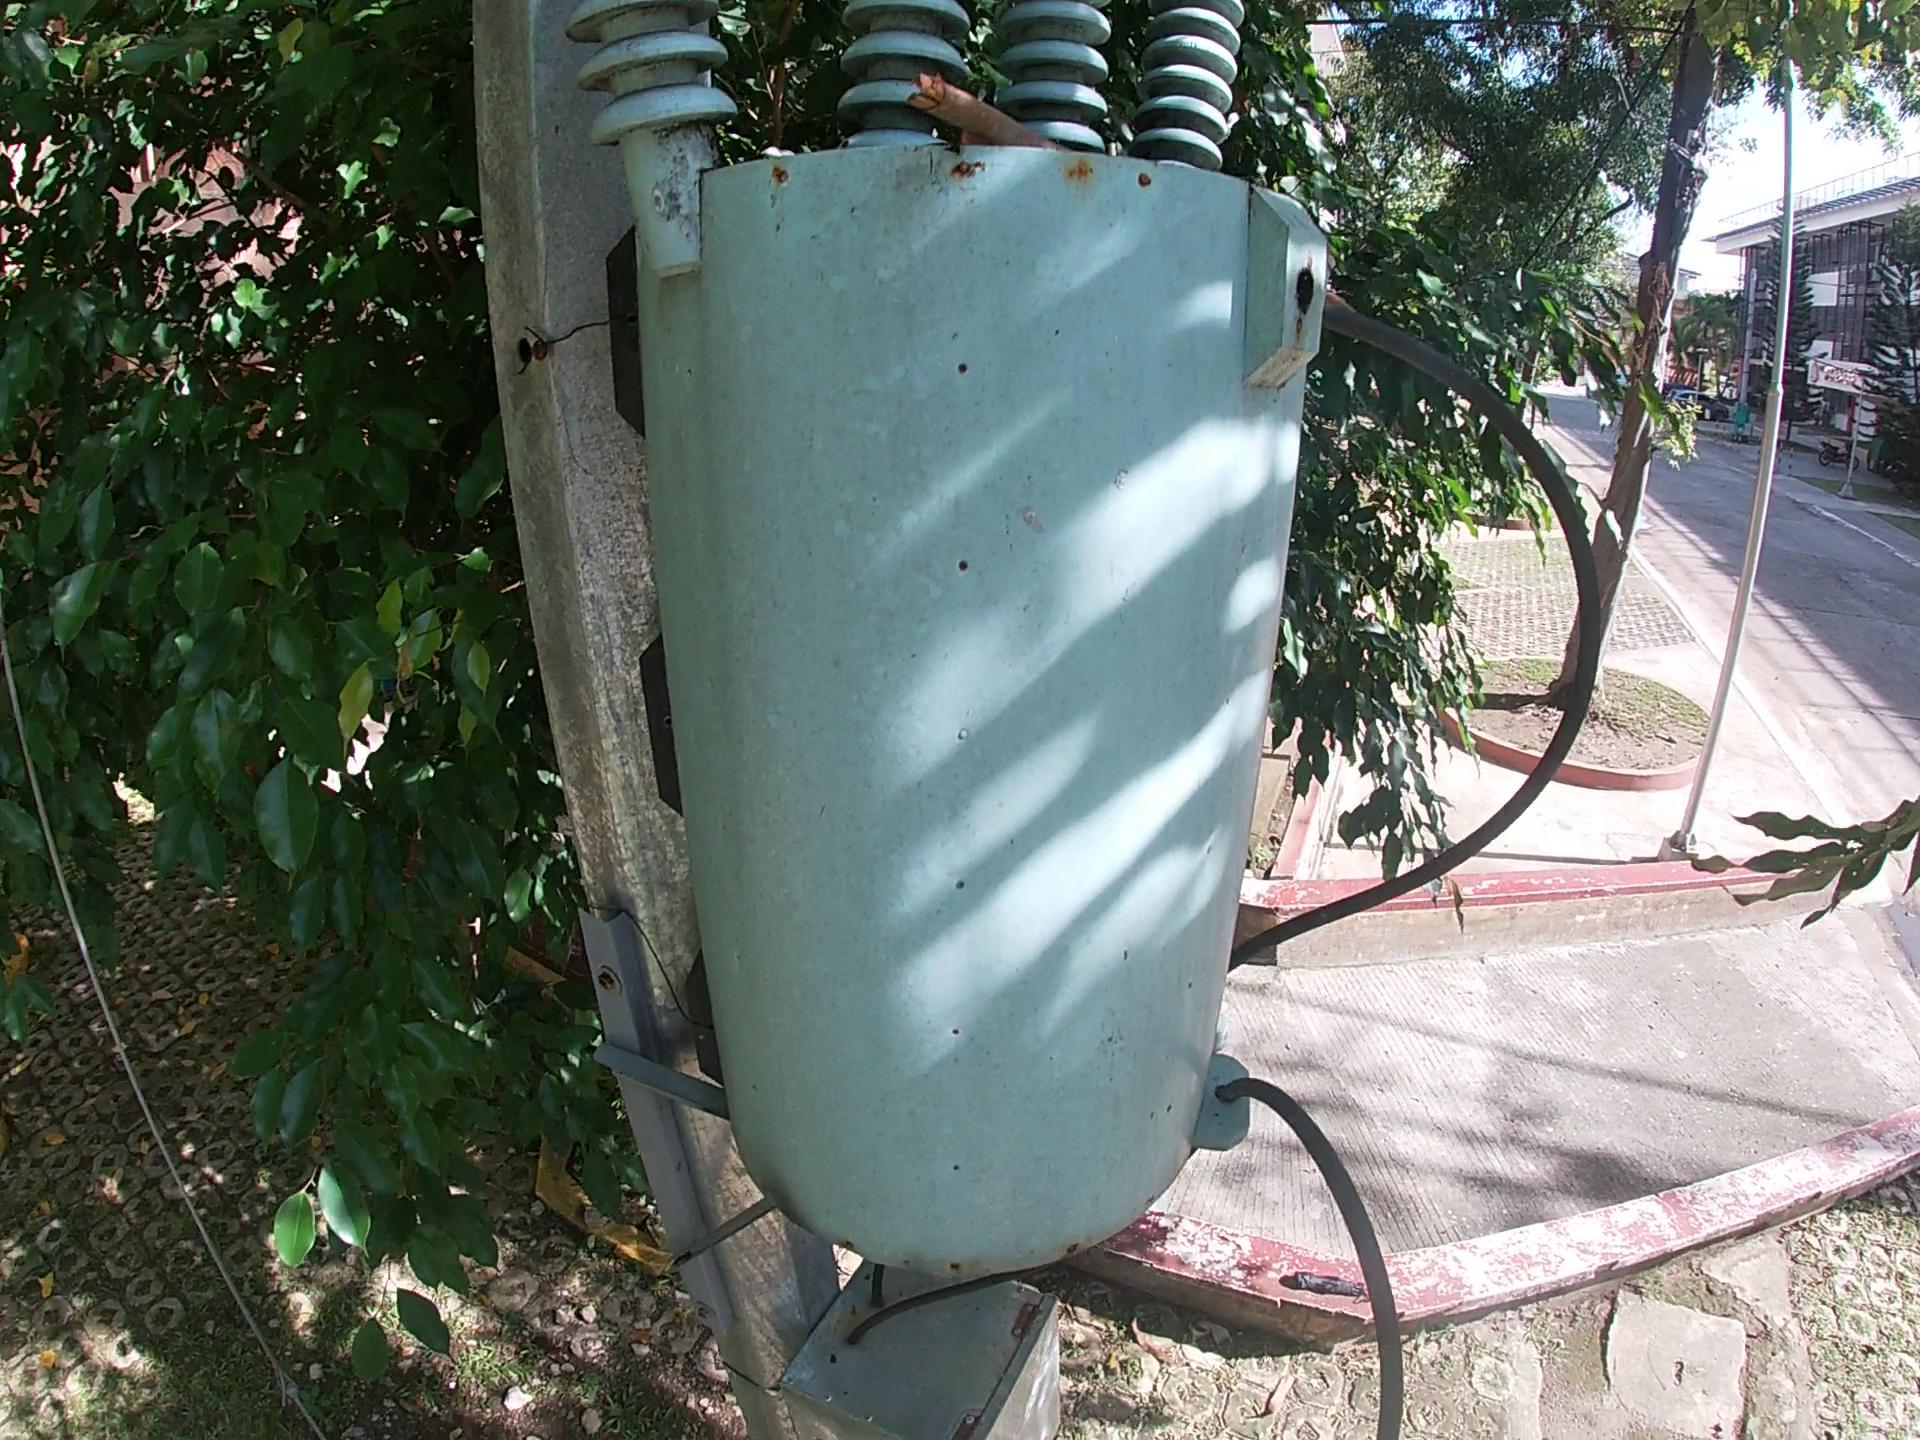tree branch: (906, 71, 1064, 154)
